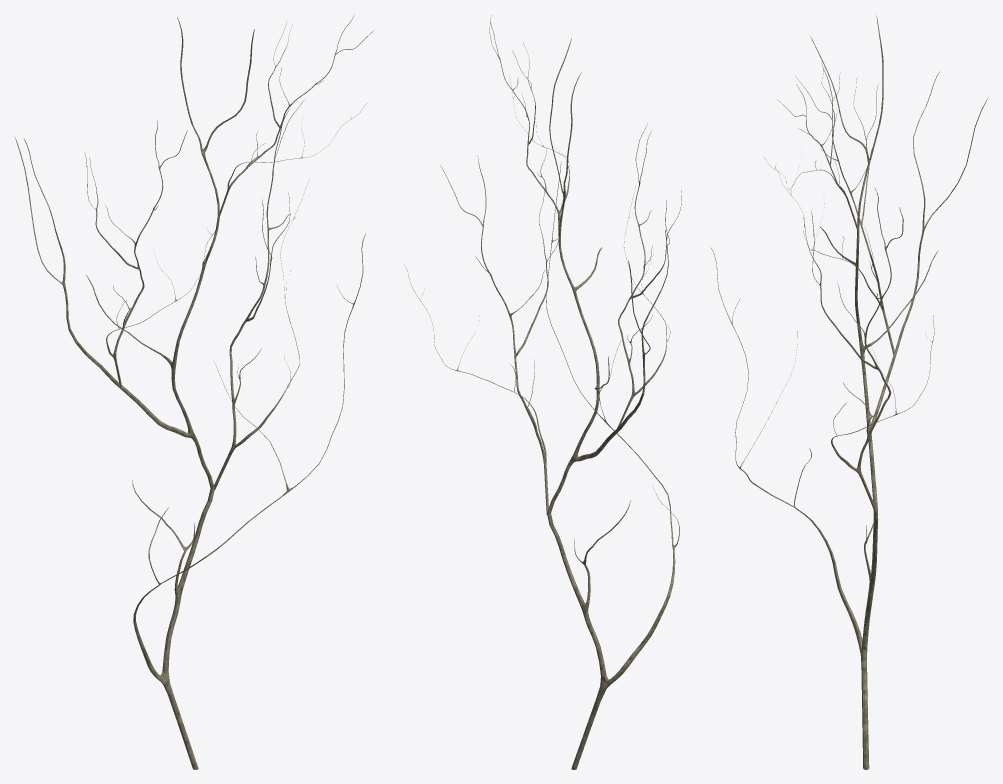
File: decoration_twig_branch.001_Plane.001.glb
3 views of the same model, side by side, from view 1: azimuth 30°, elevation 25°; view 2: azimuth 150°, elevation 25°; view 3: azimuth 270°, elevation 25° (orthographic). The views are drawn at different scales.
Parts seen in each view (by area): view 1: decoration_twig_branch.001_Plane.001; view 2: decoration_twig_branch.001_Plane.001; view 3: decoration_twig_branch.001_Plane.001.
Boxes of the visible parts, x1=… form: decoration_twig_branch.001_Plane.001: x1=14, y1=16, x2=374, y2=769; decoration_twig_branch.001_Plane.001: x1=404, y1=15, x2=681, y2=769; decoration_twig_branch.001_Plane.001: x1=711, y1=14, x2=988, y2=769.
Size of the model in its own units: 0.4514 by 1.15 by 0.3867.
1 material, 1 textured.
